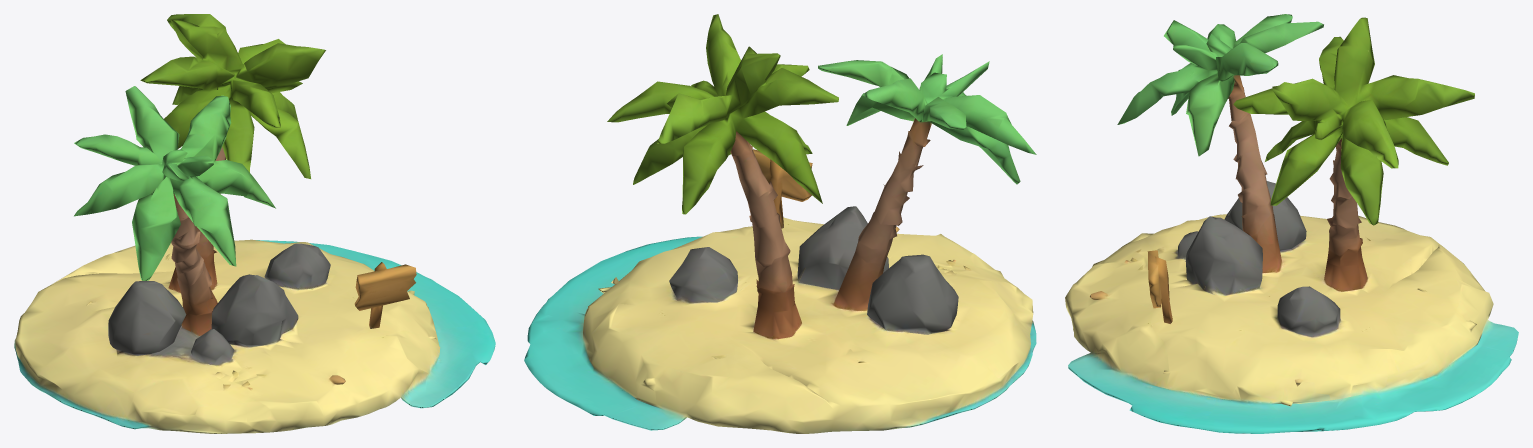
Rendered from ilha-inicial.glb.
The picture shows the model from 3 angles, left to right: view 1: azimuth 30°, elevation 25°; view 2: azimuth 150°, elevation 25°; view 3: azimuth 270°, elevation 25°; orthographic projection. The views are drawn at different scales.
Parts seen in each view (by area): view 1: tripo_node_16e0ae98-5011-4fce-9fd4-cb5cd4b7745e; view 2: tripo_node_16e0ae98-5011-4fce-9fd4-cb5cd4b7745e; view 3: tripo_node_16e0ae98-5011-4fce-9fd4-cb5cd4b7745e.
Boxes of the visible parts, box(x1,y1,x2,y2) form: tripo_node_16e0ae98-5011-4fce-9fd4-cb5cd4b7745e: box(14, 14, 495, 433); tripo_node_16e0ae98-5011-4fce-9fd4-cb5cd4b7745e: box(524, 14, 1036, 433); tripo_node_16e0ae98-5011-4fce-9fd4-cb5cd4b7745e: box(1065, 14, 1518, 433).
Bounding box in the file's own units: 1 × 0.7021 × 0.9611.
Materials: 1 (1 with a texture image).
